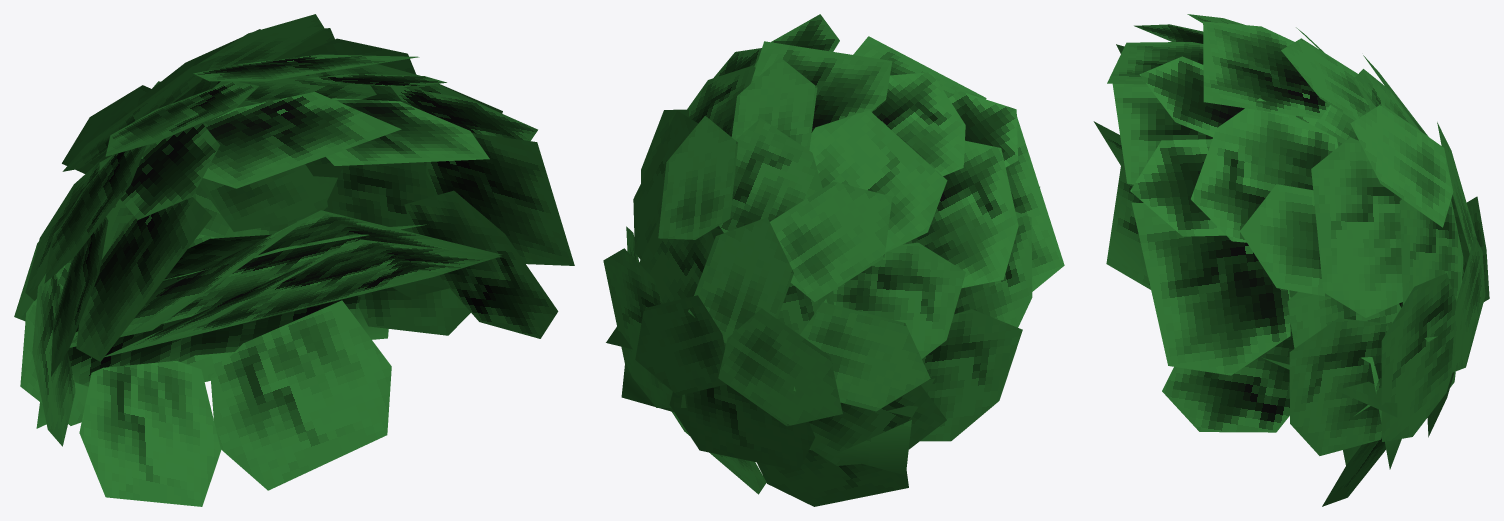
The model's file is bush-holly.glb.
3 views of the same model, side by side, from view 1: azimuth 30°, elevation 25°; view 2: azimuth 150°, elevation 25°; view 3: azimuth 270°, elevation 25° (orthographic). The views are drawn at different scales.
Visible parts, largest first — view 1: PltBushHolly__PltBushHolly4_node1; view 2: PltBushHolly__PltBushHolly4_node1; view 3: PltBushHolly__PltBushHolly4_node1.
Boxes of the visible parts, x1=… form: PltBushHolly__PltBushHolly4_node1: x1=14, y1=14, x2=574, y2=506; PltBushHolly__PltBushHolly4_node1: x1=603, y1=14, x2=1064, y2=506; PltBushHolly__PltBushHolly4_node1: x1=1093, y1=14, x2=1489, y2=506.
Bounding box in the file's own units: 1.12 × 1.11 × 0.8797.
Materials: 1 (1 with a texture image).
